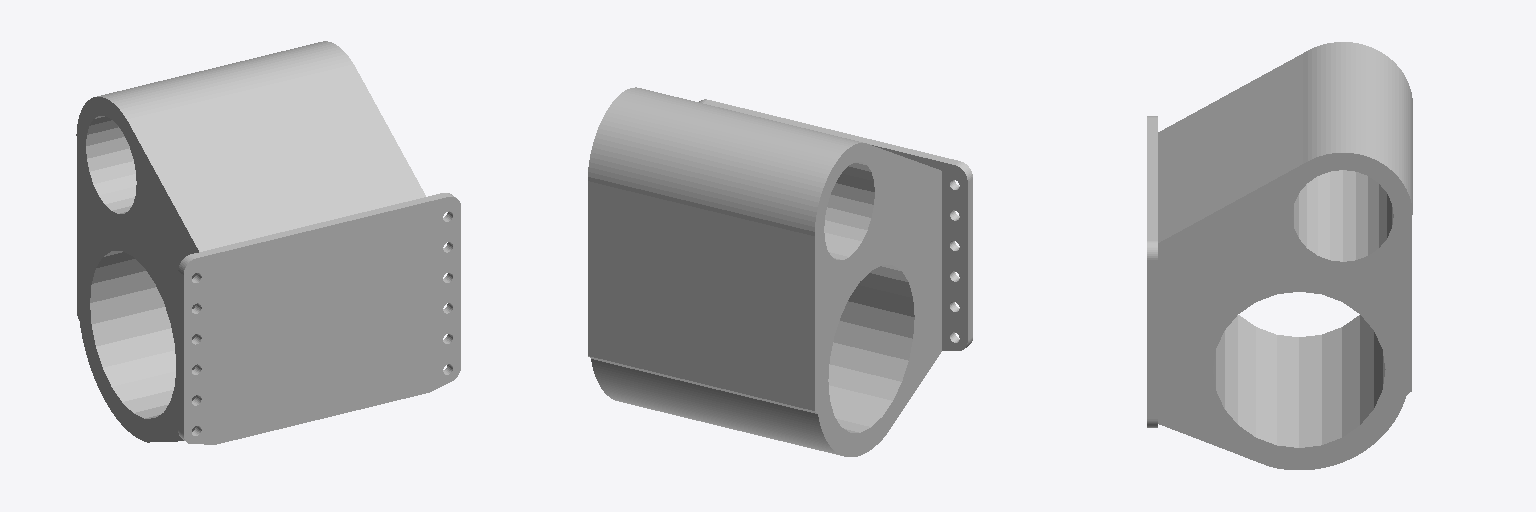
Rendered from 03_Cylinder_parowy_prawy.obj.
3 views of the same model, side by side, from view 1: azimuth 30°, elevation 25°; view 2: azimuth 150°, elevation 25°; view 3: azimuth 270°, elevation 25° (orthographic).
Parts seen in each view (by area): view 1: obj1, obj15, obj14; view 2: obj1, obj15, obj14; view 3: obj1, obj15, obj14.
Boxes of the visible parts, <box> form: obj1: <box>76,41,460,444</box>; obj15: <box>90,251,175,418</box>; obj14: <box>86,116,136,213</box>; obj1: <box>588,87,972,456</box>; obj15: <box>828,265,914,432</box>; obj14: <box>824,162,874,259</box>; obj1: <box>1147,42,1412,469</box>; obj15: <box>1213,315,1385,447</box>; obj14: <box>1292,170,1393,261</box>.
Size of the model in its own units: 46.06 by 50.39 by 38.16.